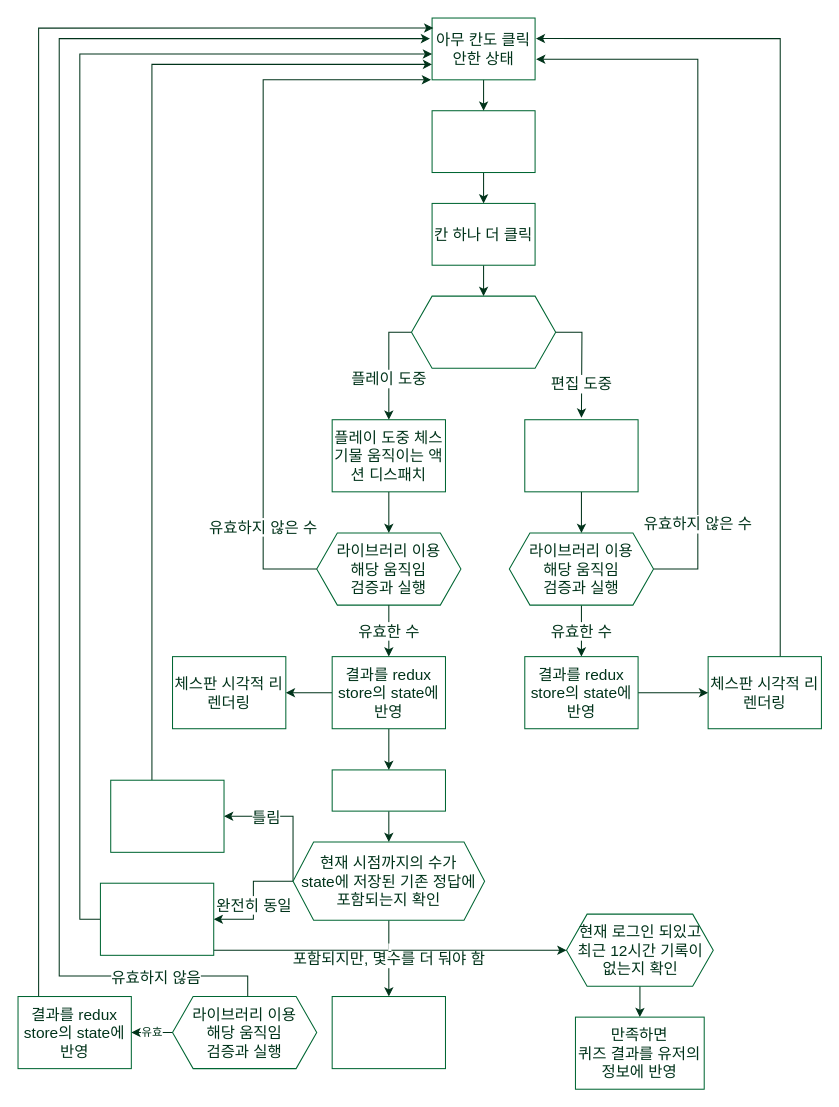
This 839x1107 diagram has some shape labels left out. Each missing label, with the centre of its shape:
1초 기다림: (x=388, y=790)
맞았다는 알림 표시 등: (x=156, y=918)
어떤 모드에서 클릭했는지 판단: (x=483, y=331)
정답을 보고 상대의 다음수를 파악: (x=388, y=1032)
체스판에서 칸 하나 클릭: (x=483, y=141)
틀렸다는 알림 표시 등: (x=167, y=815)
편집 도중 체스 기물 움직이는 액션 디스패치: (x=581, y=455)
